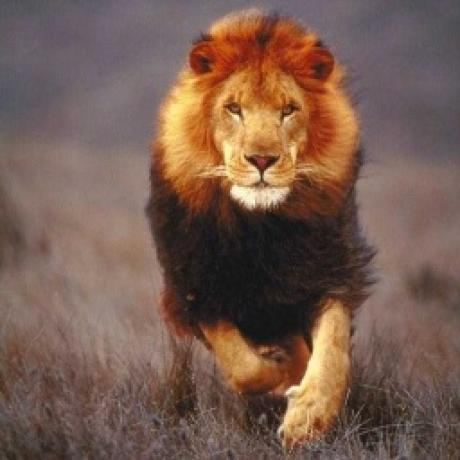Lion: (144, 4, 377, 446)
